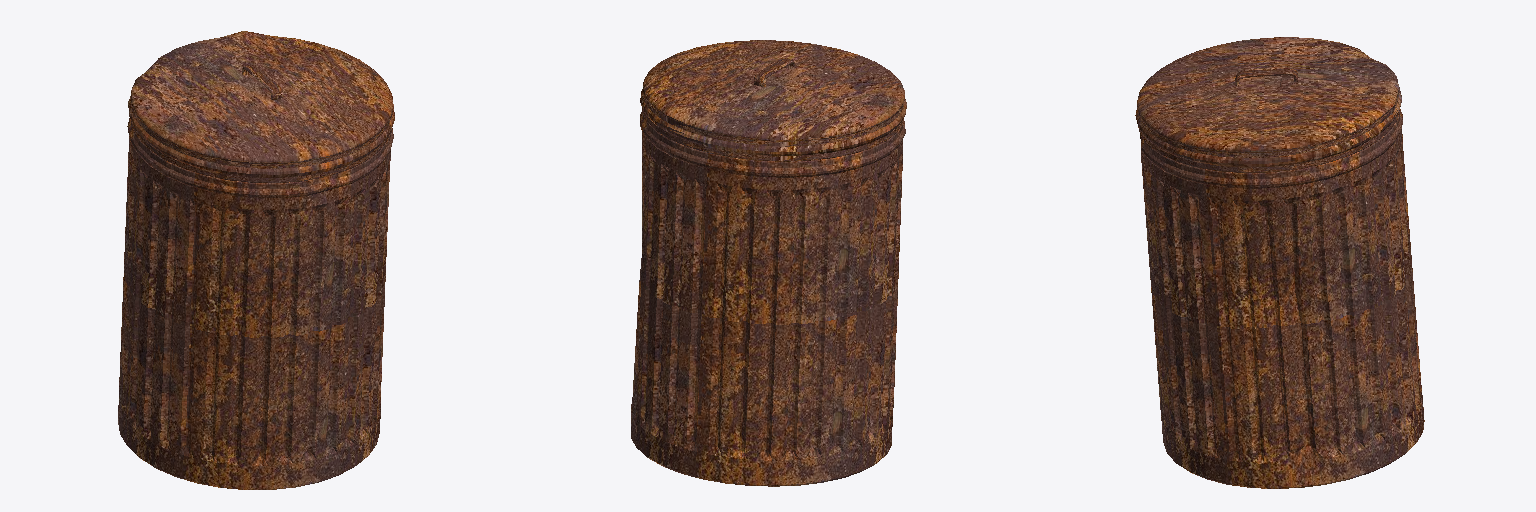
The picture shows the model from 3 angles: view 1: azimuth 30°, elevation 25°; view 2: azimuth 150°, elevation 25°; view 3: azimuth 270°, elevation 25°; orthographic projection.
Visible parts, largest first — view 1: contener, cover, handle; view 2: contener, cover; view 3: contener, cover.
Part boxes in pixels (x1,y1,x2,y2): contener: (118,87,393,489); cover: (128,31,394,182); handle: (242,65,282,99); contener: (631,112,905,486); cover: (640,40,906,161); contener: (1139,109,1424,488); cover: (1135,37,1401,172).
Size of the model in its own units: 17.34 by 26.63 by 18.74.
1 materials, 1 textured.